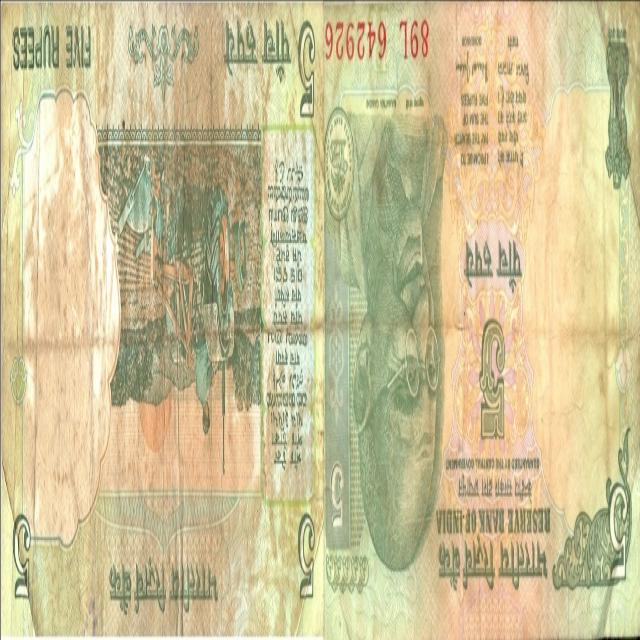5IndianRupees: (0, 5, 321, 640)
